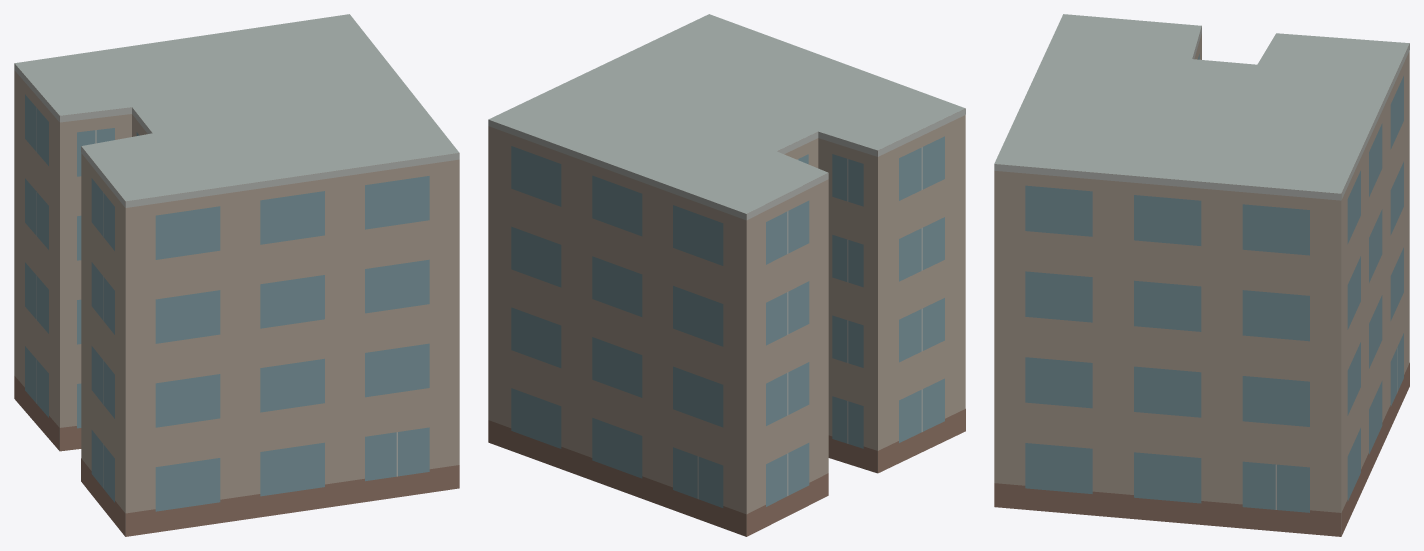
Rendered from survey-upis-32652853.glb.
The picture shows the model from 3 angles, left to right: view 1: azimuth 30°, elevation 25°; view 2: azimuth 150°, elevation 25°; view 3: azimuth 270°, elevation 25°; orthographic projection. The views are drawn at different scales.
Parts seen in each view (by area): view 1: survey-upis-32652853.tmp; view 2: survey-upis-32652853.tmp; view 3: survey-upis-32652853.tmp.
Boxes of the visible parts, left/top/right/bottom form: survey-upis-32652853.tmp: left=14, top=14, right=459, bottom=536; survey-upis-32652853.tmp: left=488, top=14, right=965, bottom=536; survey-upis-32652853.tmp: left=994, top=14, right=1409, bottom=536.
Size of the model in its own units: 13.72 by 12.2 by 13.4.
